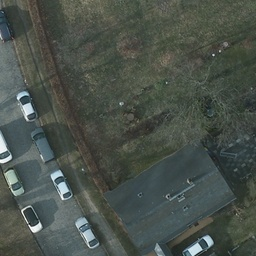car: (31, 128, 54, 163), (76, 218, 100, 251), (16, 87, 38, 121), (50, 169, 72, 201), (182, 235, 213, 255), (21, 206, 43, 234), (3, 169, 23, 195), (1, 129, 13, 163), (1, 12, 14, 43)
